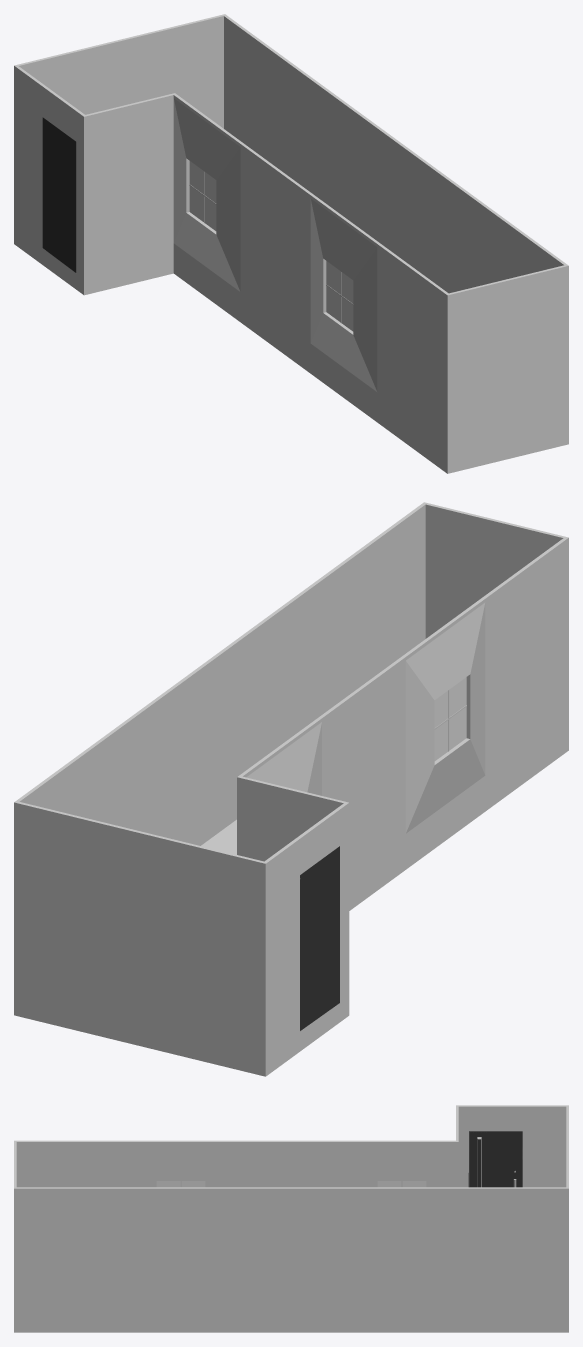
3 views of the same model, one above another, from view 1: azimuth 30°, elevation 25°; view 2: azimuth 150°, elevation 25°; view 3: azimuth 270°, elevation 25° (orthographic). The views are drawn at different scales.
Visible parts, largest first — view 1: 廊下, ドア, ガラス1, ガラス2; view 2: 廊下, ドア, ガラス1; view 3: 廊下, ドア, ガラス1, ガラス2.
Part boxes in pixels (x1,y1,x2,y2): 廊下: [14, 14, 568, 473]; ドア: [42, 117, 76, 272]; ガラス1: [326, 261, 353, 331]; ガラス2: [189, 161, 216, 230]; 廊下: [14, 502, 568, 1076]; ドア: [300, 846, 339, 1030]; ガラス1: [434, 677, 466, 760]; 廊下: [14, 1105, 568, 1332]; ドア: [468, 1131, 522, 1187]; ガラス1: [156, 1181, 205, 1187]; ガラス2: [377, 1181, 426, 1187].
Bounding box in the file's own units: 3.65 × 2.95 × 10.3.
Materials: 2 (1 with a texture image).
